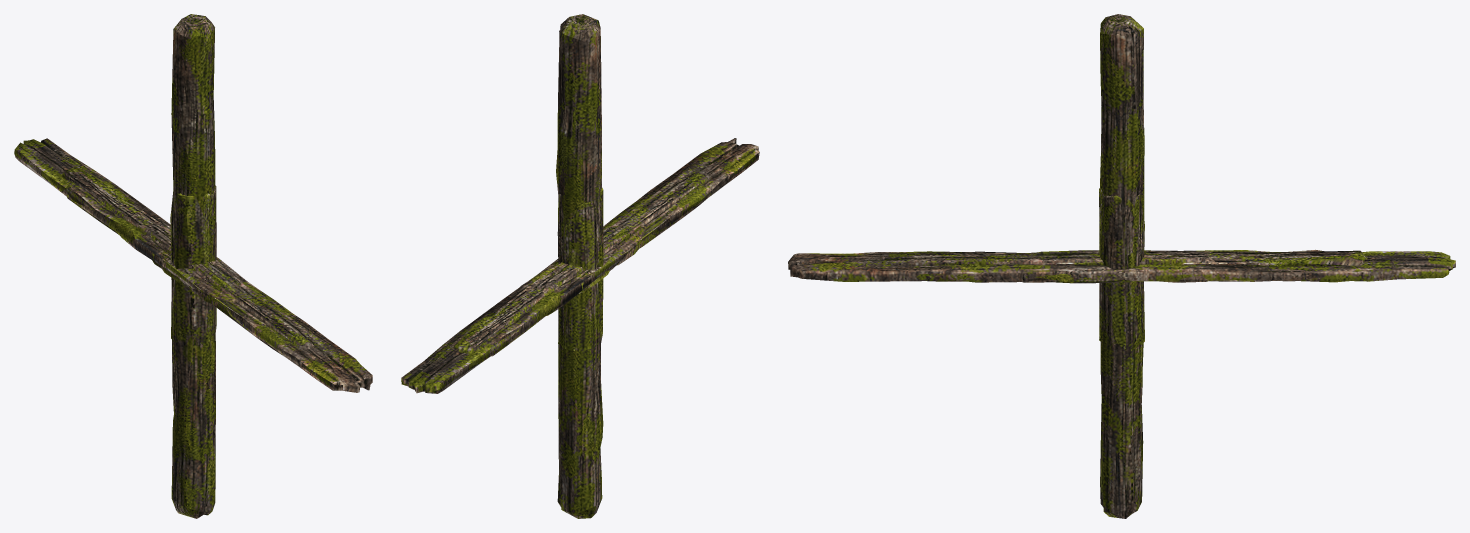
The model's file is mossplank.FBX.
The picture shows the model from 3 angles, left to right: view 1: azimuth 30°, elevation 25°; view 2: azimuth 150°, elevation 25°; view 3: azimuth 270°, elevation 25°; orthographic projection.
Visible parts, largest first — view 1: WoodMossyLog_2, WoodMossyPlankL_1, WoodMossyLog_4, WoodMossyLogSqare_1, WoodMossyLogSqare_4, WoodMossyPlankS_1, WoodMossyPlankM_1; view 2: WoodMossyLog_2, WoodMossyPlankL_1, WoodMossyLog_4, WoodMossyLogSqare_1, WoodMossyLogSqare_4, WoodMossyPlankM_1, WoodMossyPlankS_1; view 3: WoodMossyLog_2, WoodMossyPlankL_1, WoodMossyLogSqare_1, WoodMossyLog_4, WoodMossyLogSqare_4, WoodMossyPlankS_1, WoodMossyPlankM_1.
Part boxes in pixels (x1,y1,x2,y2): WoodMossyLog_2: [171, 14, 215, 518]; WoodMossyPlankL_1: [14, 138, 372, 392]; WoodMossyLog_4: [170, 185, 216, 347]; WoodMossyLogSqare_1: [62, 167, 322, 349]; WoodMossyLogSqare_4: [138, 221, 243, 293]; WoodMossyPlankS_1: [121, 224, 261, 305]; WoodMossyPlankM_1: [66, 184, 314, 355]; WoodMossyLog_2: [556, 14, 603, 518]; WoodMossyPlankL_1: [401, 138, 759, 393]; WoodMossyLog_4: [557, 187, 603, 350]; WoodMossyLogSqare_1: [450, 169, 709, 353]; WoodMossyLogSqare_4: [526, 226, 634, 296]; WoodMossyPlankM_1: [467, 180, 707, 356]; WoodMossyPlankS_1: [520, 221, 646, 315]; WoodMossyLog_2: [1100, 14, 1144, 518]; WoodMossyPlankL_1: [788, 249, 1455, 282]; WoodMossyLogSqare_1: [879, 250, 1367, 281]; WoodMossyLog_4: [1099, 188, 1144, 350]; WoodMossyLogSqare_4: [1032, 250, 1214, 265]; WoodMossyPlankS_1: [1022, 264, 1209, 283]; WoodMossyPlankM_1: [902, 252, 1319, 281].
Bounding box in the file's own units: 19.29 × 207 × 253.
